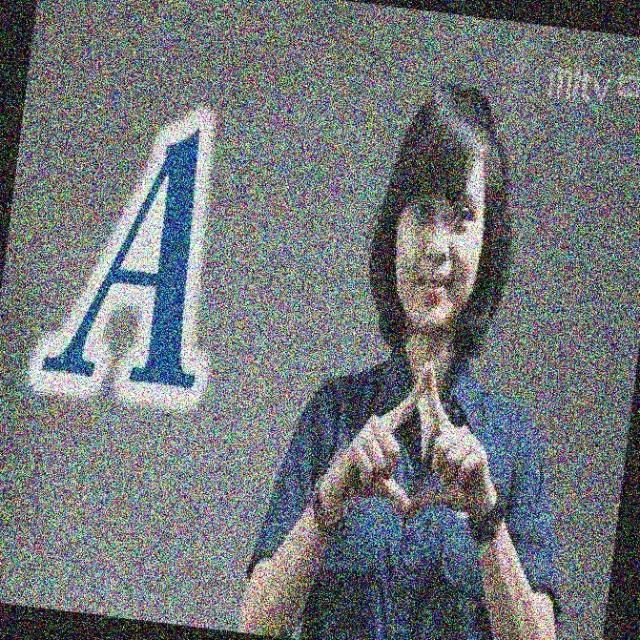A: (346, 358, 482, 526)
